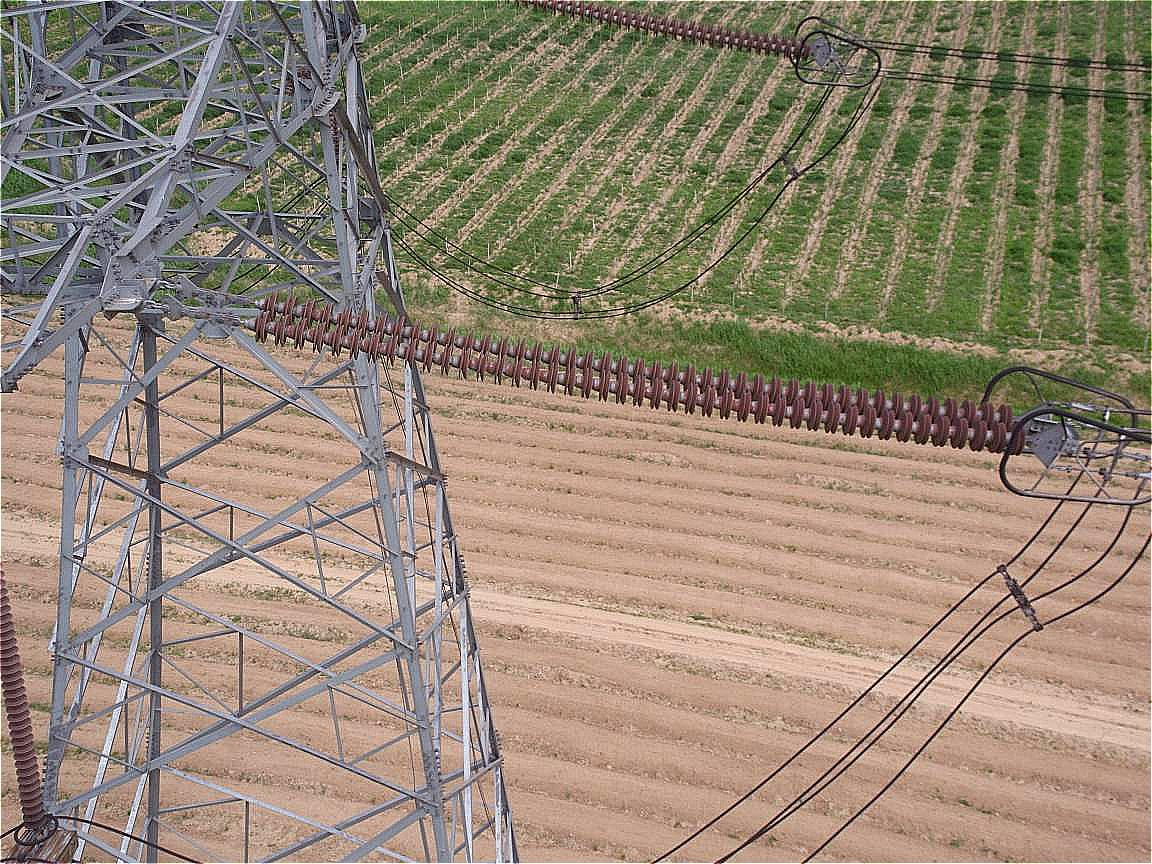insultor2: (229, 278, 1039, 469), (498, 1, 835, 69)
